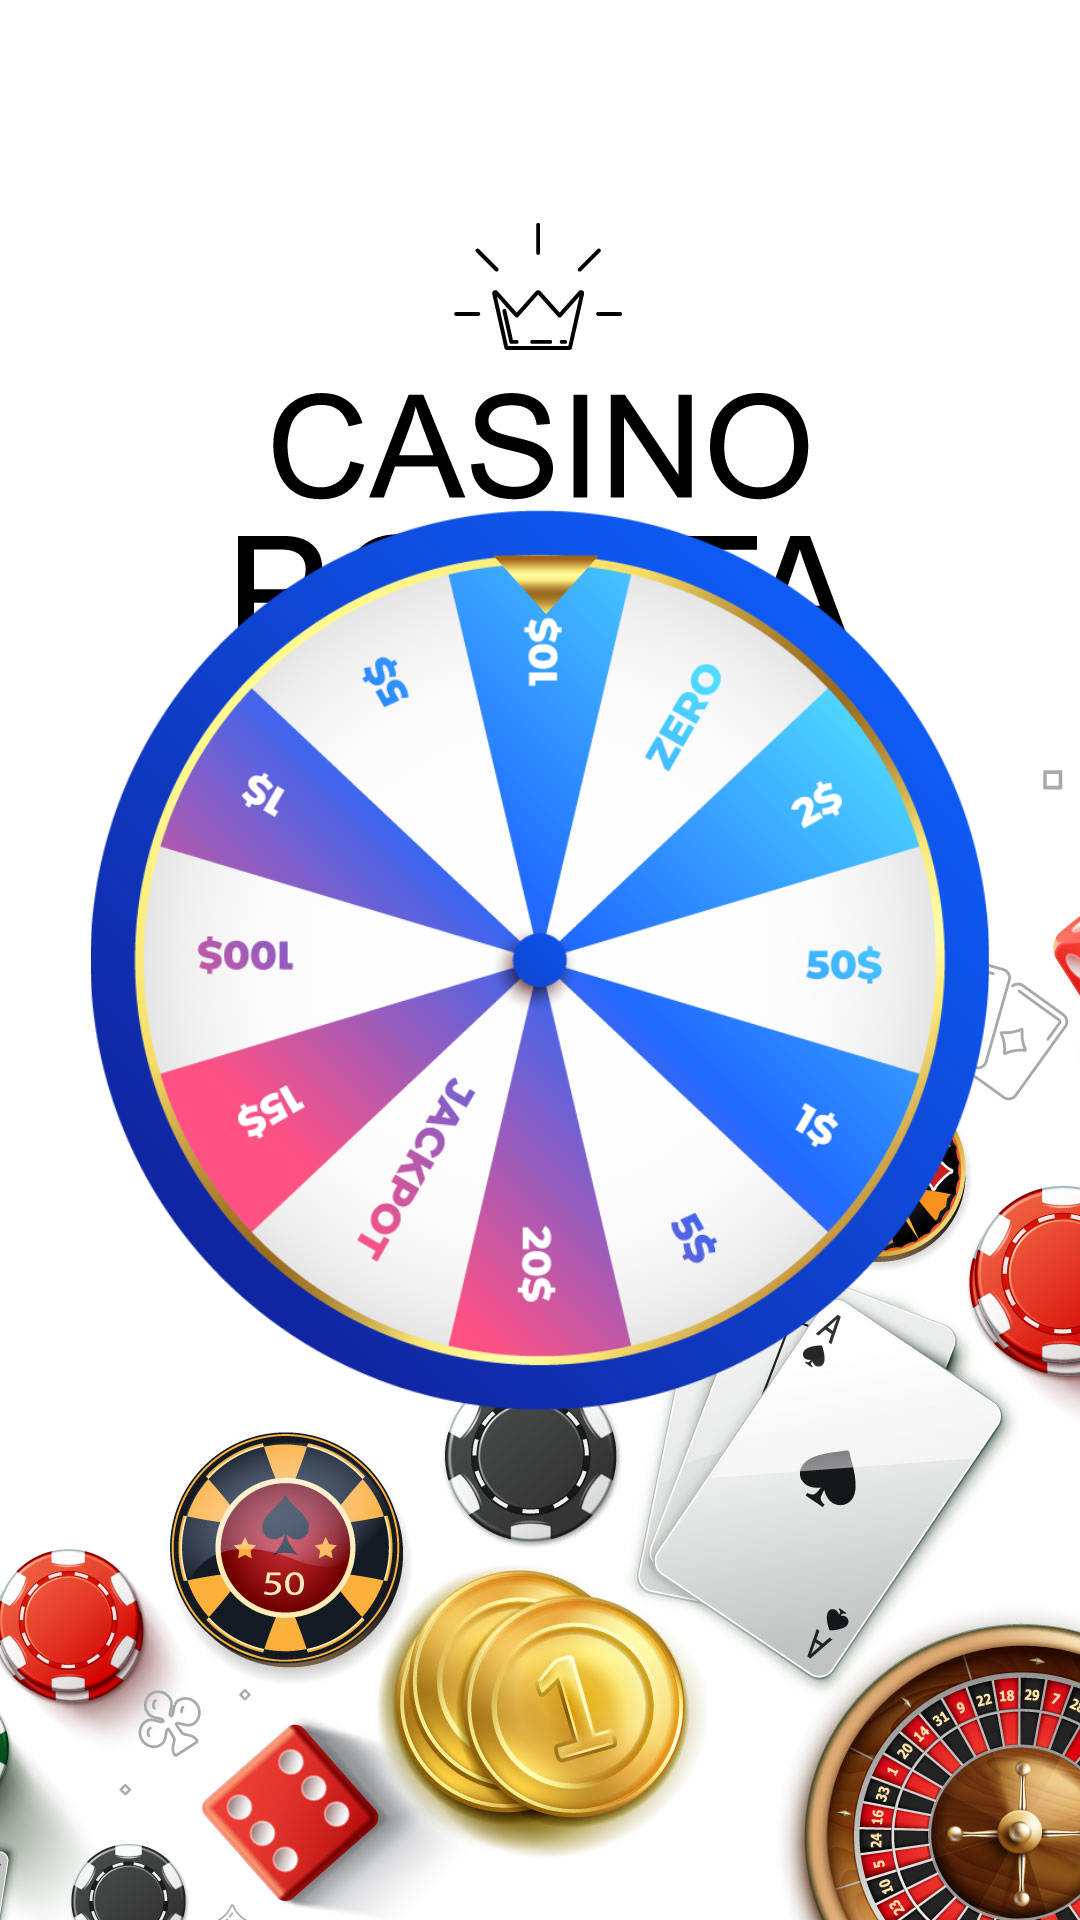

Named icons in this screenshot (1080w x 1920h) and their centers, [x,y]:
ponteiro: [546,584]
